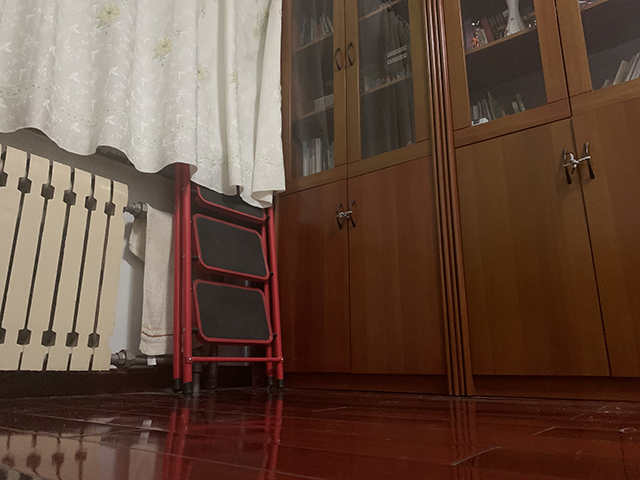cabinet: (293, 88, 639, 401)
curtain: (2, 2, 284, 206)
